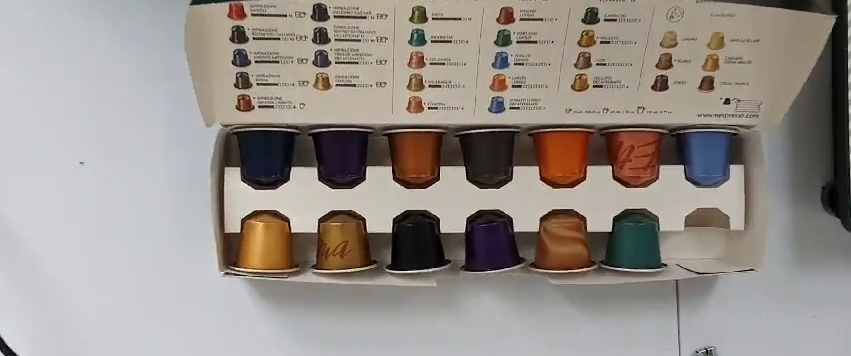capsule_1: (230, 125, 305, 193)
capsule_10: (387, 209, 452, 276)
capsule_11: (460, 210, 527, 276)
capsule_12: (532, 209, 598, 274)
capsule_13: (603, 209, 668, 275)
capsule_2: (309, 124, 374, 191)
capsule_3: (380, 126, 449, 190)
capsule_4: (456, 128, 519, 187)
capsule_5: (529, 126, 598, 190)
capsule_6: (603, 124, 669, 187)
capsule_7: (673, 126, 741, 185)
capsule_8: (229, 211, 301, 277)
capsule_9: (312, 211, 377, 276)
